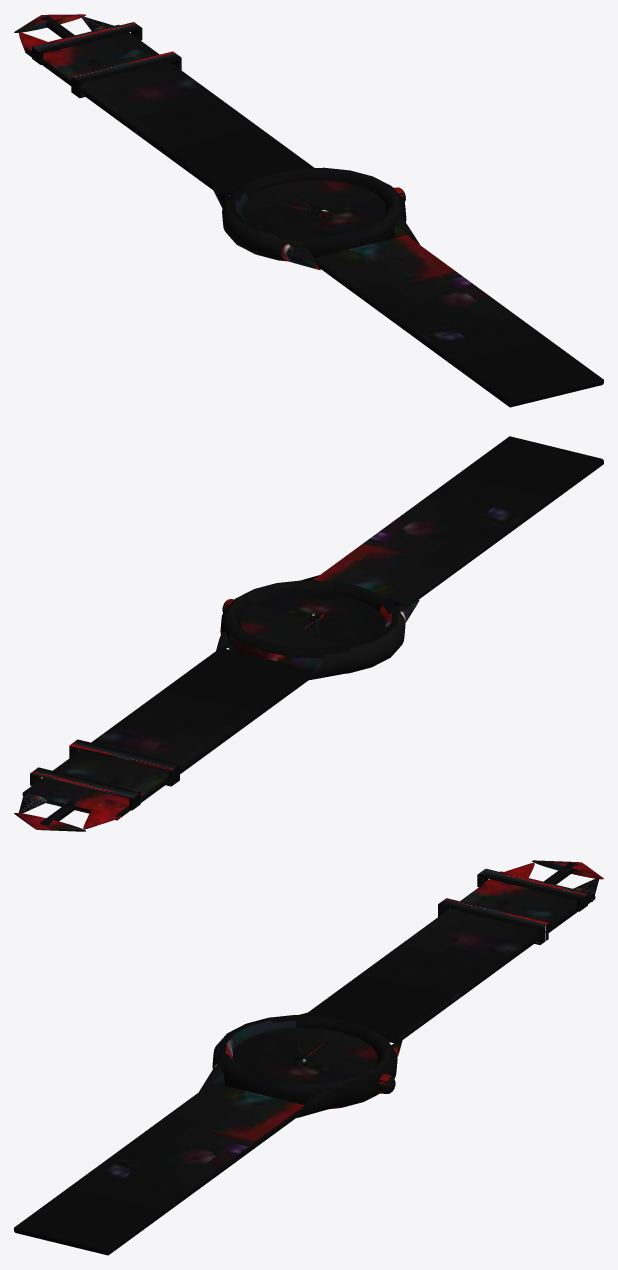
Rendered from Watch for texturing in substance painter.obj.
3 renders of one model, top to bottom at view 1: azimuth 30°, elevation 25°; view 2: azimuth 150°, elevation 25°; view 3: azimuth 330°, elevation 25°, orthographic.
Parts seen in each view (by area): view 1: pasted__pasted__pCube1 pasted__group3 group12, pasted__pCube1 group3, pTorus1, pCylinder1, pasted__pasted__pasted__pCube1 pasted__pasted__group3 pasted__gr, pasted__pasted__pCube1 pasted__group3 group8, pasted__pCone1 group, pasted__pasted__pCone2 pasted__group5 group6; view 2: pasted__pasted__pCube1 pasted__group3 group12, pasted__pCube1 group3, pTorus1, pCylinder1, pasted__pasted__pasted__pCube1 pasted__pasted__group3 pasted__gr, pasted__pasted__pCube1 pasted__group3 group8, pasted__pasted__pCone2 pasted__group5 group6; view 3: pasted__pasted__pCube1 pasted__group3 group12, pasted__pCube1 group3, pTorus1, pCylinder1, pasted__pasted__pasted__pCube1 pasted__pasted__group3 pasted__gr, pasted__pasted__pCube1 pasted__group3 group8, pCone1, pasted__pasted__pCone2 pasted__group5 group6.
Part boxes in pixels (x1,y1,x2,y2): pasted__pasted__pCube1 pasted__group3 group12: [313, 235, 603, 407]; pasted__pCube1 group3: [25, 24, 314, 194]; pTorus1: [222, 167, 406, 261]; pCylinder1: [241, 180, 386, 235]; pasted__pasted__pasted__pCube1 pasted__pasted__group3 pasted__gr: [71, 51, 330, 214]; pasted__pasted__pCube1 pasted__group3 group8: [32, 22, 142, 64]; pasted__pCone1 group: [281, 243, 320, 270]; pasted__pasted__pCone2 pasted__group5 group6: [14, 14, 85, 32]; pasted__pasted__pCube1 pasted__group3 group12: [313, 436, 603, 606]; pasted__pCube1 group3: [22, 647, 314, 820]; pTorus1: [220, 580, 405, 673]; pCylinder1: [240, 593, 385, 648]; pasted__pasted__pasted__pCube1 pasted__pasted__group3 pasted__gr: [69, 613, 323, 786]; pasted__pasted__pCube1 pasted__group3 group8: [30, 767, 140, 810]; pasted__pasted__pCone2 pasted__group5 group6: [14, 813, 85, 831]; pasted__pasted__pCube1 pasted__group3 group12: [14, 1083, 304, 1255]; pasted__pCube1 group3: [304, 871, 595, 1043]; pTorus1: [212, 1015, 397, 1109]; pCylinder1: [232, 1027, 377, 1083]; pasted__pasted__pasted__pCube1 pasted__pasted__group3 pasted__gr: [294, 898, 548, 1065]; pasted__pasted__pCube1 pasted__group3 group8: [477, 868, 587, 911]; pCone1: [297, 1089, 336, 1117]; pasted__pasted__pCone2 pasted__group5 group6: [532, 860, 603, 879].
Bounding box in the file's own units: 6.69 × 1.07 × 35.45.
2 materials, 1 textured.
